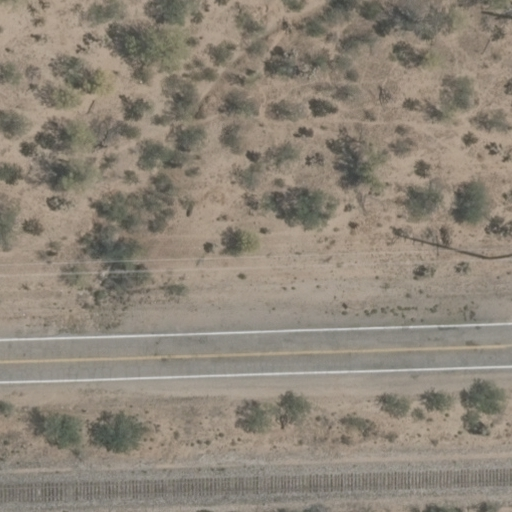DT: (490, 250, 512, 261)
